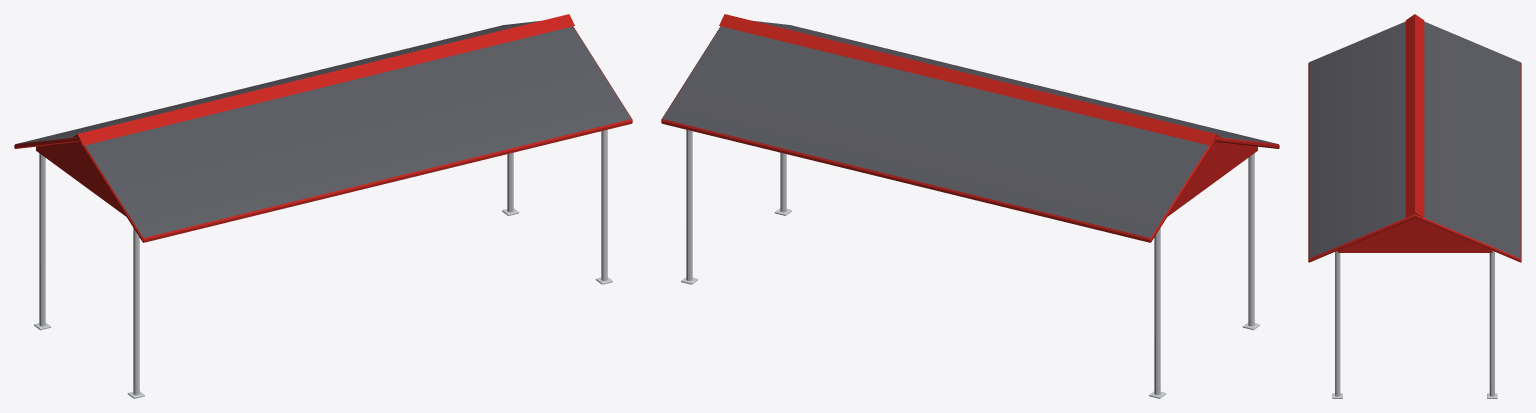
File: techo_dos_aguas_grande.glb
The picture shows the model from 3 angles, left to right: view 1: azimuth 30°, elevation 25°; view 2: azimuth 150°, elevation 25°; view 3: azimuth 270°, elevation 25°; orthographic projection. The views are drawn at different scales.
Visible parts, largest first — view 1: pieza_tramo, pieza_punta_izq, pieza_punta_der; view 2: pieza_tramo, pieza_punta_izq, pieza_punta_der; view 3: pieza_tramo, pieza_punta_der, pieza_punta_izq.
Part boxes in pixels (box(x1,y1,x2,y2)): pieza_tramo: box(58, 24, 591, 232); pieza_punta_izq: box(14, 123, 184, 398); pieza_punta_der: box(463, 14, 632, 284); pieza_tramo: box(702, 24, 1235, 232); pieza_punta_izq: box(1109, 123, 1279, 398); pieza_punta_der: box(661, 14, 830, 284); pieza_tramo: box(1308, 31, 1521, 242); pieza_punta_der: box(1308, 195, 1521, 398); pieza_punta_izq: box(1308, 14, 1521, 79).
Size of what is drawn, in the model's own units: 3.51 by 1.57 by 1.6.
